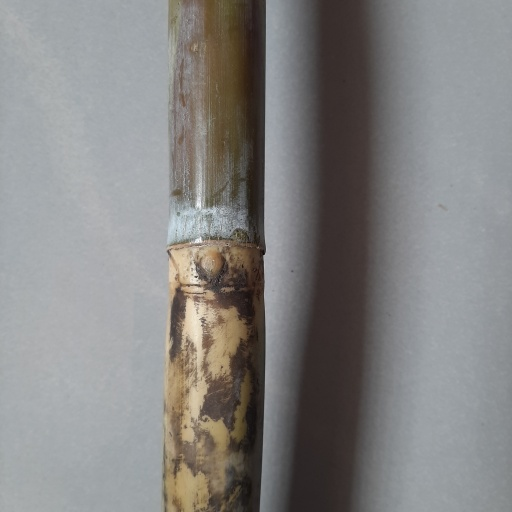Bud: (198, 251, 228, 285)
